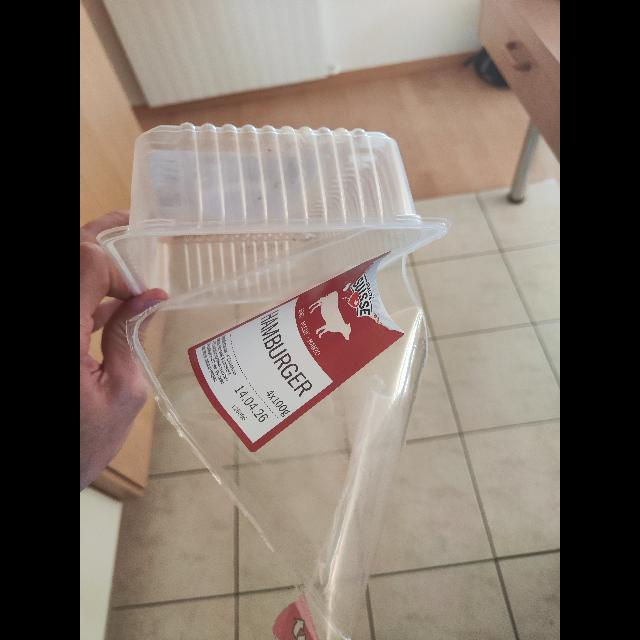Plastic: (97, 110, 455, 640)
